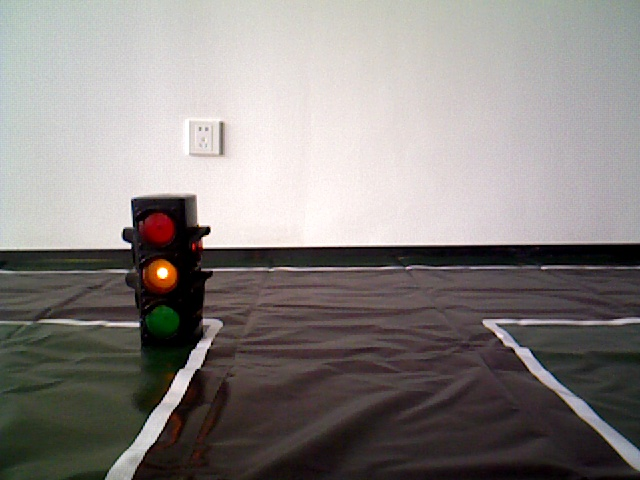yellow: (129, 193, 203, 344)
